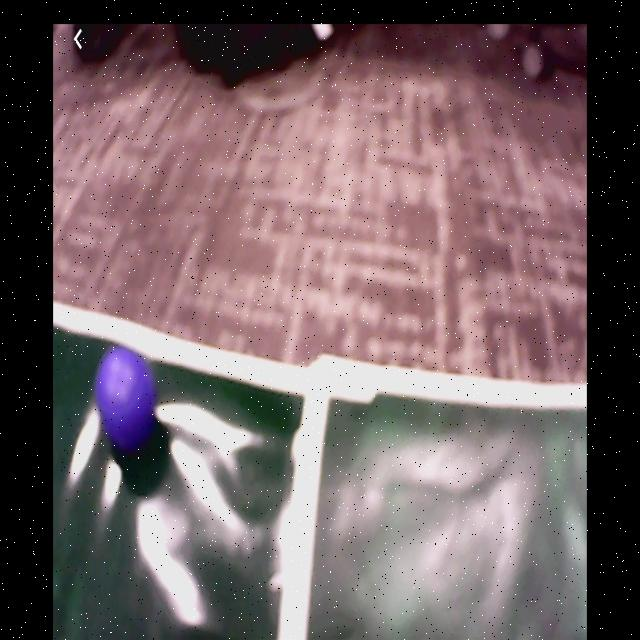ball: (96, 346, 159, 446)
